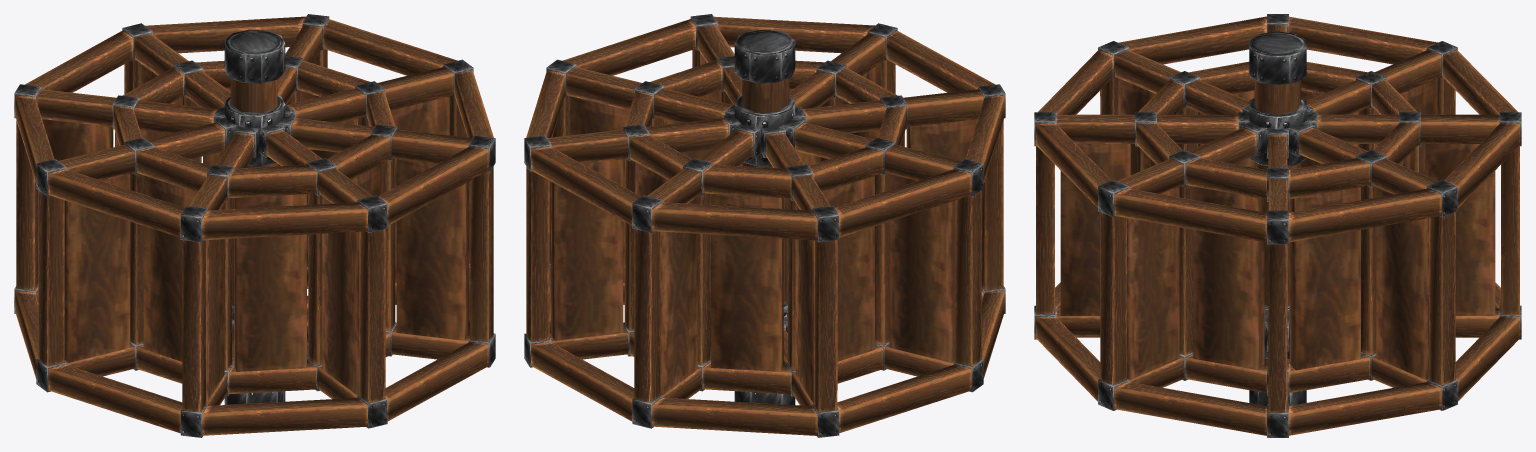
Rendered from INST_SWORDLIGHT_WATERWHEEL.fbx.
3 renders of one model, left to right at view 1: azimuth 30°, elevation 25°; view 2: azimuth 150°, elevation 25°; view 3: azimuth 270°, elevation 25°, orthographic.
Parts seen in each view (by area): view 1: INST_SWORDLIGHT_WATERWHEEL; view 2: INST_SWORDLIGHT_WATERWHEEL; view 3: INST_SWORDLIGHT_WATERWHEEL.
Boxes of the visible parts, x1,y1,x2,y2 form: INST_SWORDLIGHT_WATERWHEEL: (14,14,495,437); INST_SWORDLIGHT_WATERWHEEL: (524,14,1005,437); INST_SWORDLIGHT_WATERWHEEL: (1034,14,1521,437).
Size of the model in its own units: 122964 by 101238 by 122964.
5 materials, 5 textured.
